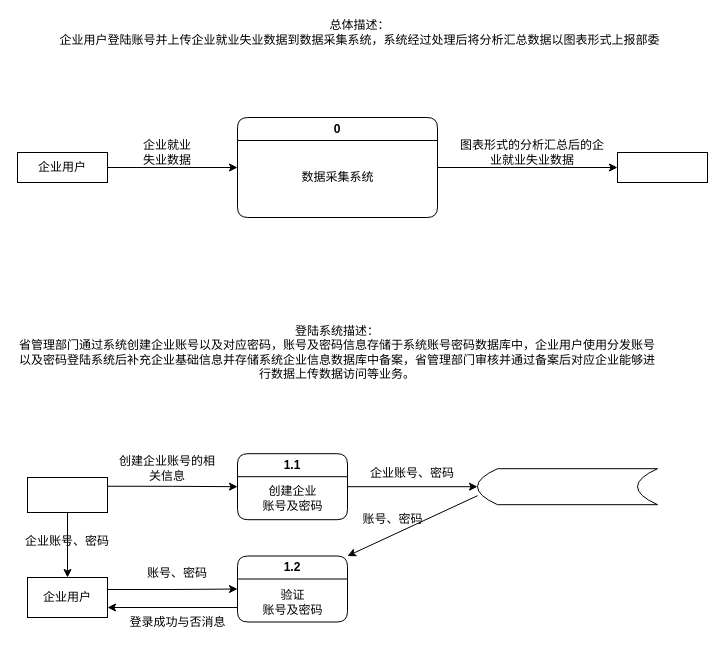
The diagram is 725 pixels wide and 654 high, and some of its shapes have lost their labels. The box of each missing label's shape, as (x1, y1, x2, y2) in pixels:
省管理部门: (26, 476, 108, 512)
系统账号密码数据库: (476, 468, 658, 505)
部委: (616, 152, 708, 182)
